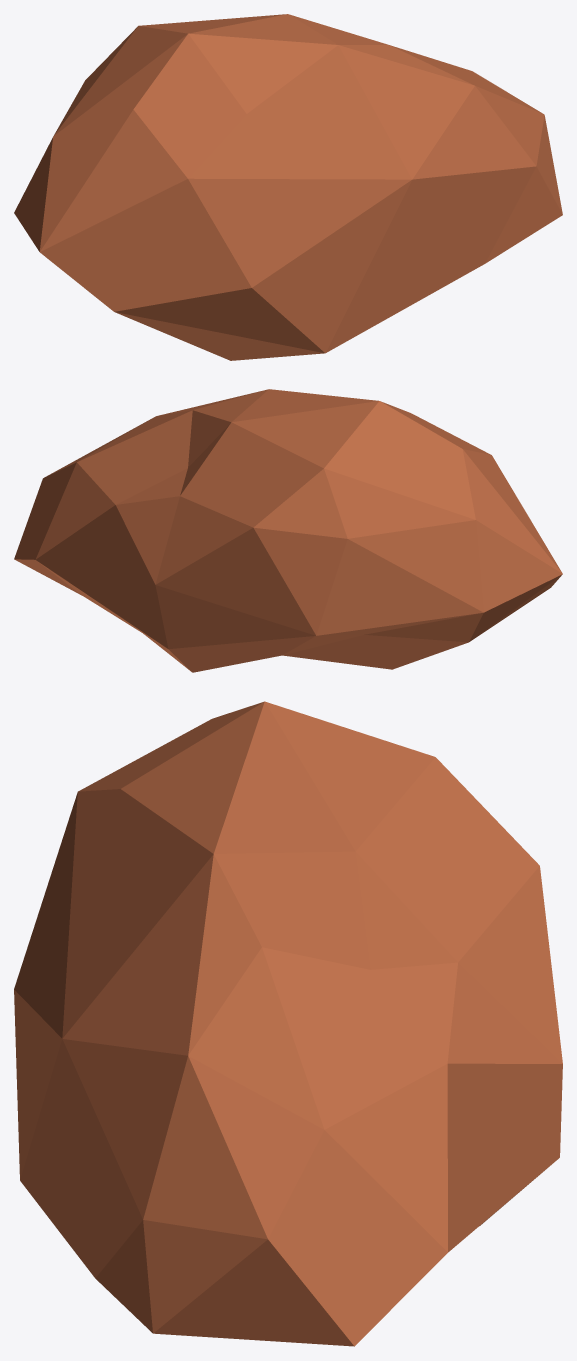
Rendered from Small_LongRock1.fbx.
The picture shows the model from 3 angles, top to bottom: view 1: azimuth 30°, elevation 25°; view 2: azimuth 150°, elevation 25°; view 3: azimuth 270°, elevation 25°; orthographic projection. The views are drawn at different scales.
Visible parts, largest first — view 1: Small_LongRock1; view 2: Small_LongRock1; view 3: Small_LongRock1.
Boxes of the visible parts, bbox=[...] form: Small_LongRock1: bbox=[14, 14, 562, 360]; Small_LongRock1: bbox=[14, 389, 562, 672]; Small_LongRock1: bbox=[14, 701, 562, 1346].
Size of the model in its own units: 4.47 by 2.49 by 2.55.
